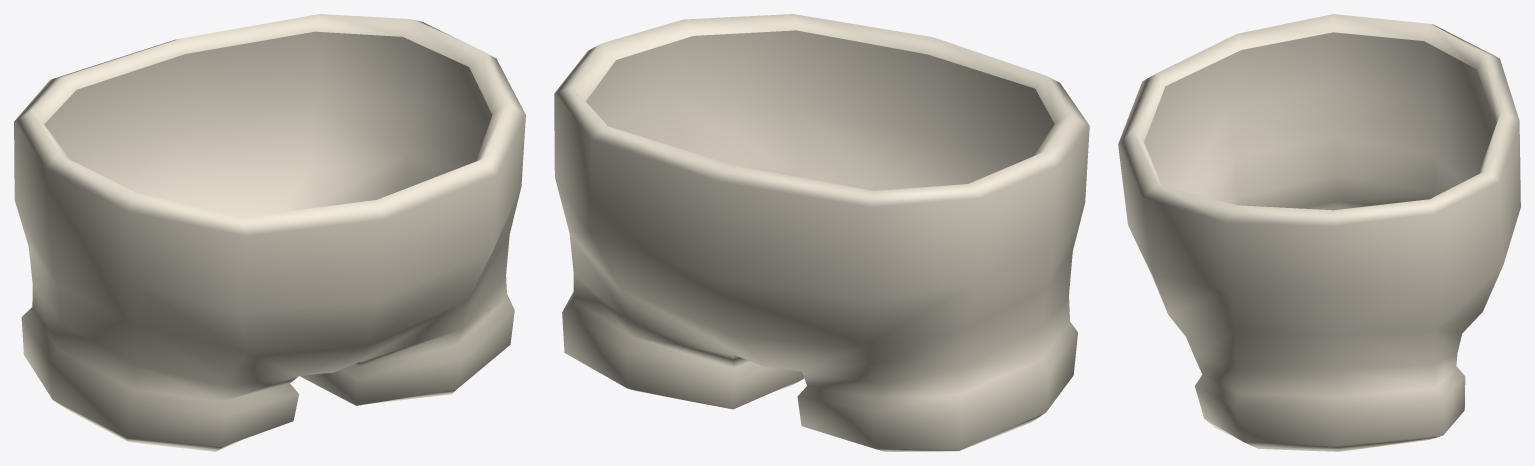
File: Bottom_1.fbx
The picture shows the model from 3 angles, left to right: view 1: azimuth 30°, elevation 25°; view 2: azimuth 150°, elevation 25°; view 3: azimuth 270°, elevation 25°; orthographic projection. The views are drawn at different scales.
Visible parts, largest first — view 1: Bottom_1; view 2: Bottom_1; view 3: Bottom_1.
Part boxes in pixels (x1,y1,x2,y2): Bottom_1: [14, 14, 525, 451]; Bottom_1: [554, 14, 1089, 451]; Bottom_1: [1118, 14, 1520, 451].
Size of the model in its own units: 38.42 by 22.89 by 31.34.
